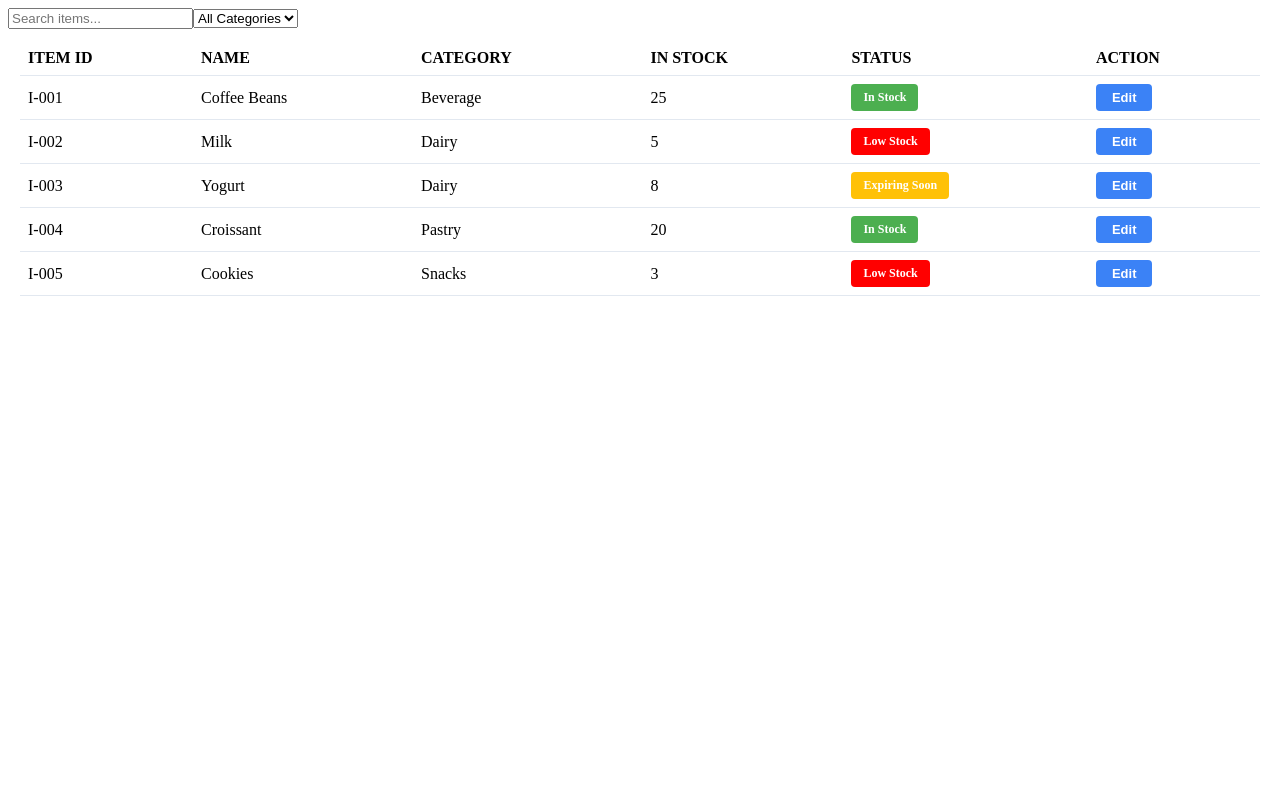
Test: InventoryTable - Interaction Linking (OB2W3D2) › Row-specific Edit Linking › modal closes when cancel button is clicked
What coordinates should you click on to do the following:
click the button "Edit" in the row of "I-001"
I would click on:
 (1124, 98)
Its box is x1=1096 y1=84 x2=1152 y2=111.
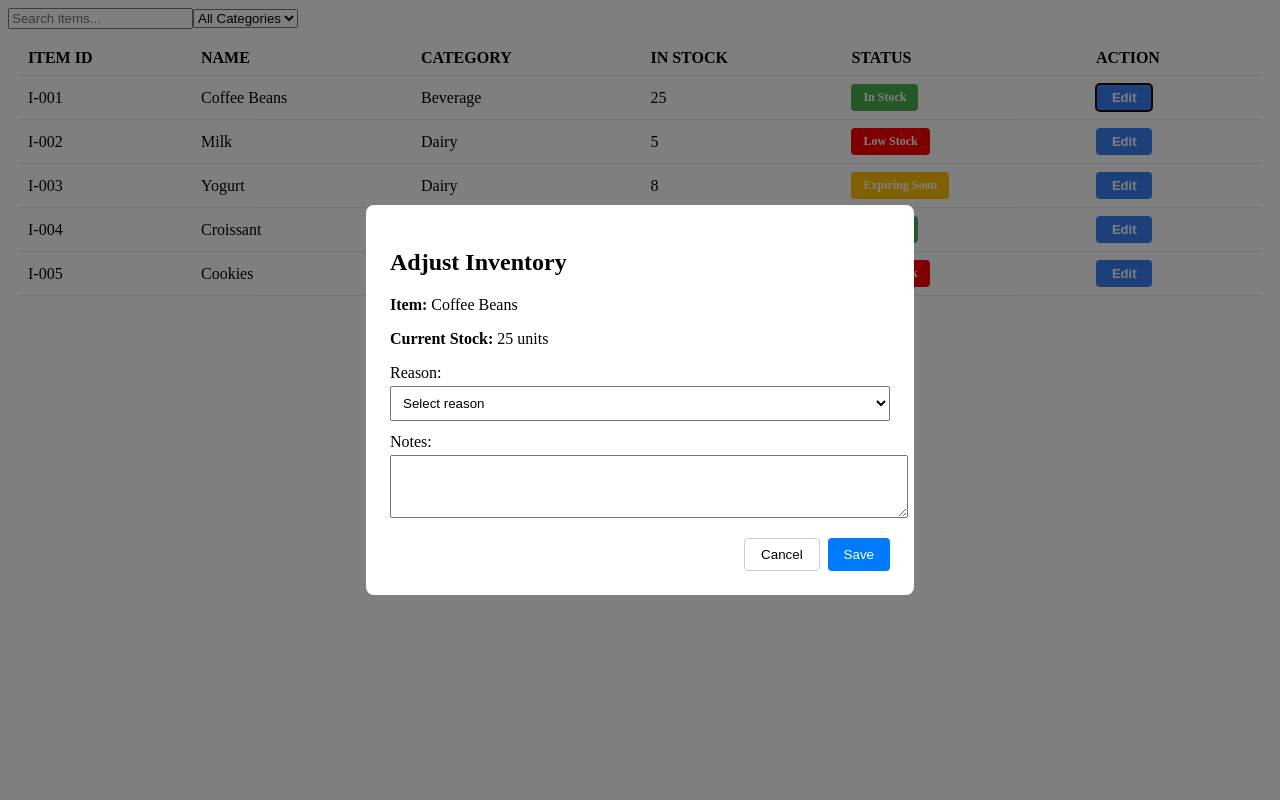
Expected: the element with test id "modal" is shown
What coordinates should you click on to do the following:
click the button with test id "form-cancel-btn"
I would click on:
 (782, 554)
Its box is x1=744 y1=538 x2=820 y2=571.
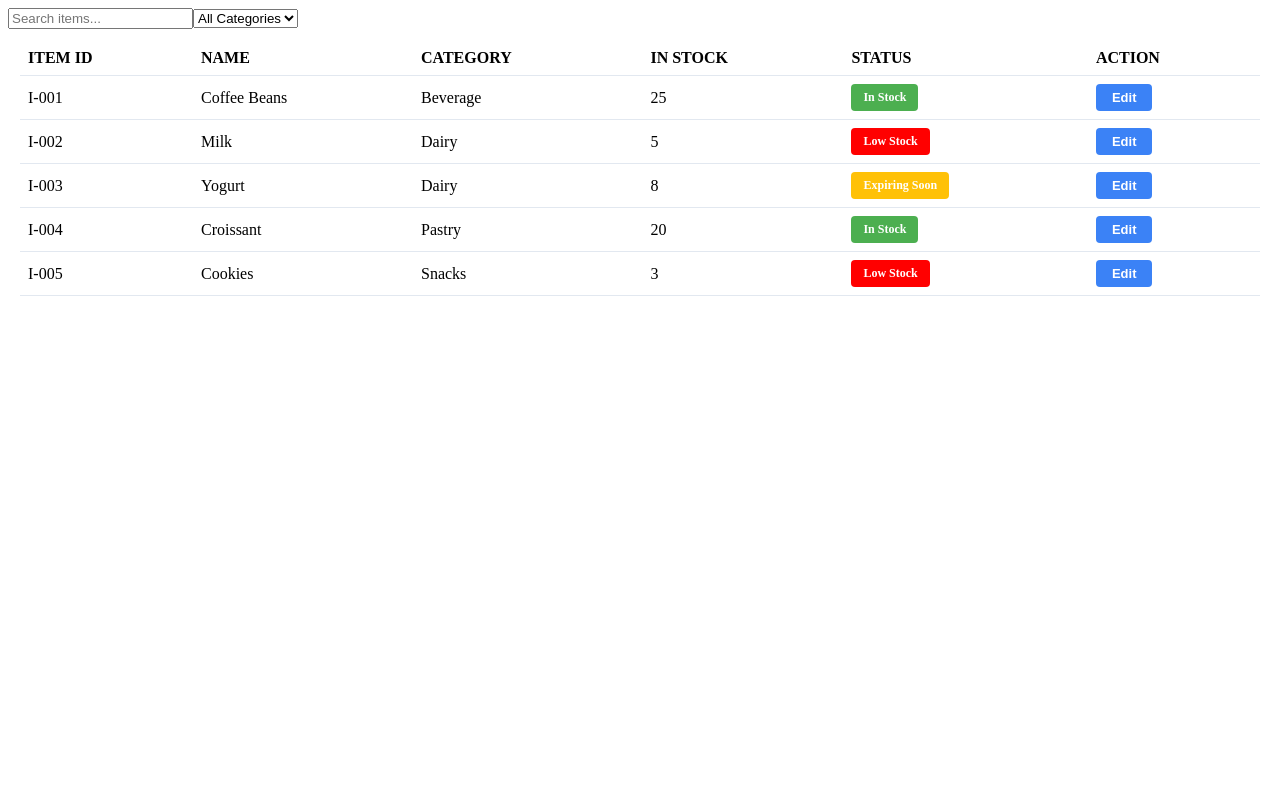
Expected: the element with test id "modal" is gone
